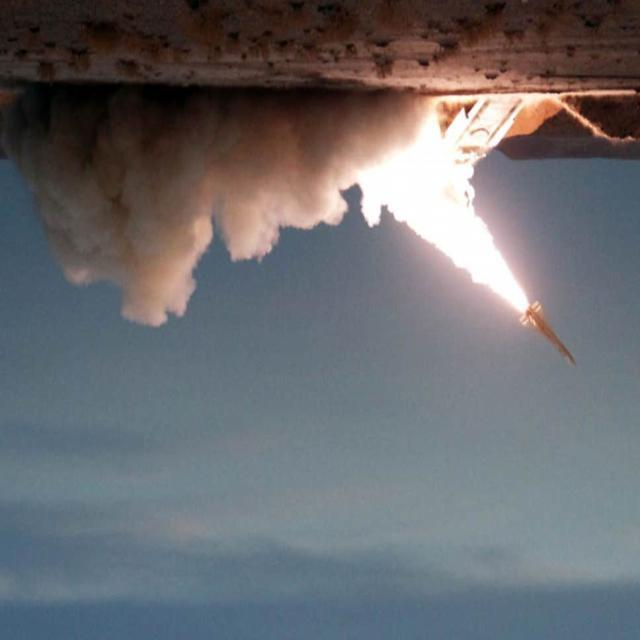missile: (523, 296, 585, 371)
